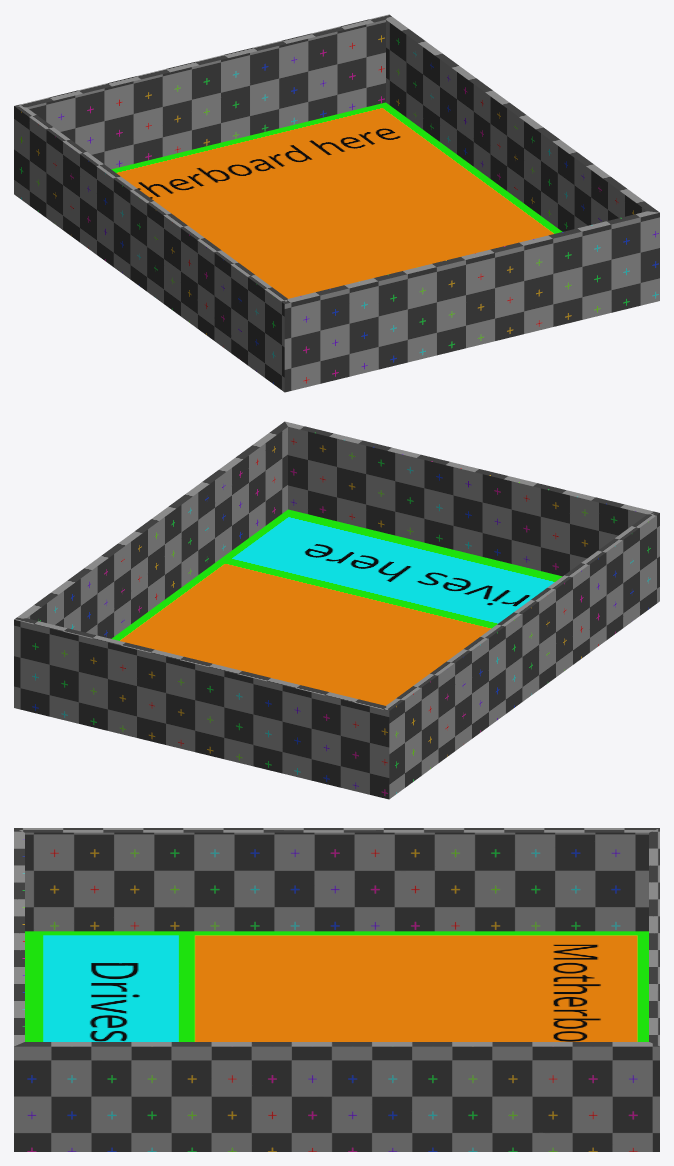
Rendered from dumb_server.fbx.
3 renders of one model, top to bottom at view 1: azimuth 30°, elevation 25°; view 2: azimuth 150°, elevation 25°; view 3: azimuth 270°, elevation 25°, orthographic. The views are drawn at different scales.
Parts seen in each view (by area): view 1: Custom Server; view 2: Custom Server; view 3: Custom Server.
Part boxes in pixels (x1=…): Custom Server: x1=14, y1=14, x2=659, y2=392; Custom Server: x1=14, y1=421, x2=659, y2=799; Custom Server: x1=14, y1=828, x2=659, y2=1151.
Size of the model in its own units: 0.4 by 0.5 by 0.09.
